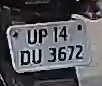1: (50, 25, 60, 46)
2: (75, 44, 84, 61)
3: (46, 46, 59, 63)
4: (57, 26, 68, 43)
6: (57, 45, 66, 66)
7: (67, 44, 75, 63)
D: (16, 47, 32, 69)
P: (36, 26, 49, 45)
U: (25, 26, 38, 47), (31, 48, 45, 65)
